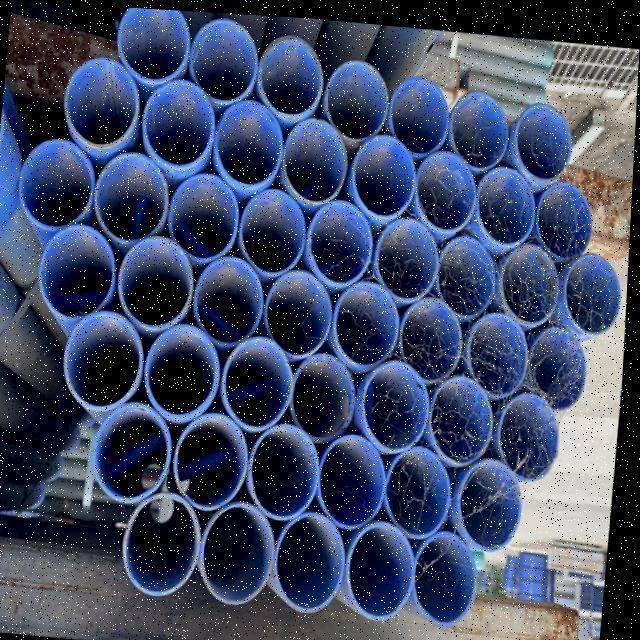pipe: (126, 493, 208, 596), (65, 309, 148, 408), (202, 501, 282, 603), (277, 511, 356, 611), (99, 401, 176, 503), (38, 222, 119, 317), (350, 513, 423, 615), (415, 525, 493, 620), (169, 172, 253, 258), (121, 235, 199, 327), (254, 414, 326, 513), (148, 323, 225, 415), (22, 138, 98, 230), (180, 409, 252, 505), (320, 426, 391, 522), (363, 355, 436, 447), (95, 152, 170, 241), (227, 333, 298, 426), (391, 286, 462, 379), (197, 249, 271, 337), (144, 76, 216, 166), (65, 59, 139, 146), (462, 450, 529, 545), (309, 196, 379, 283), (434, 368, 500, 460), (335, 277, 407, 361), (292, 351, 359, 441), (268, 263, 336, 351), (242, 184, 308, 274), (389, 442, 456, 529), (217, 99, 285, 184), (188, 17, 259, 98), (502, 385, 564, 476), (356, 131, 420, 218), (287, 112, 351, 198), (258, 33, 324, 114), (504, 234, 567, 318), (116, 6, 190, 77), (381, 213, 445, 295), (472, 305, 533, 391), (324, 56, 389, 136), (416, 140, 477, 225), (569, 244, 626, 331), (531, 317, 590, 401), (479, 160, 538, 243), (392, 70, 451, 153), (439, 228, 498, 310), (450, 82, 509, 163), (539, 172, 595, 255), (516, 97, 573, 176)
